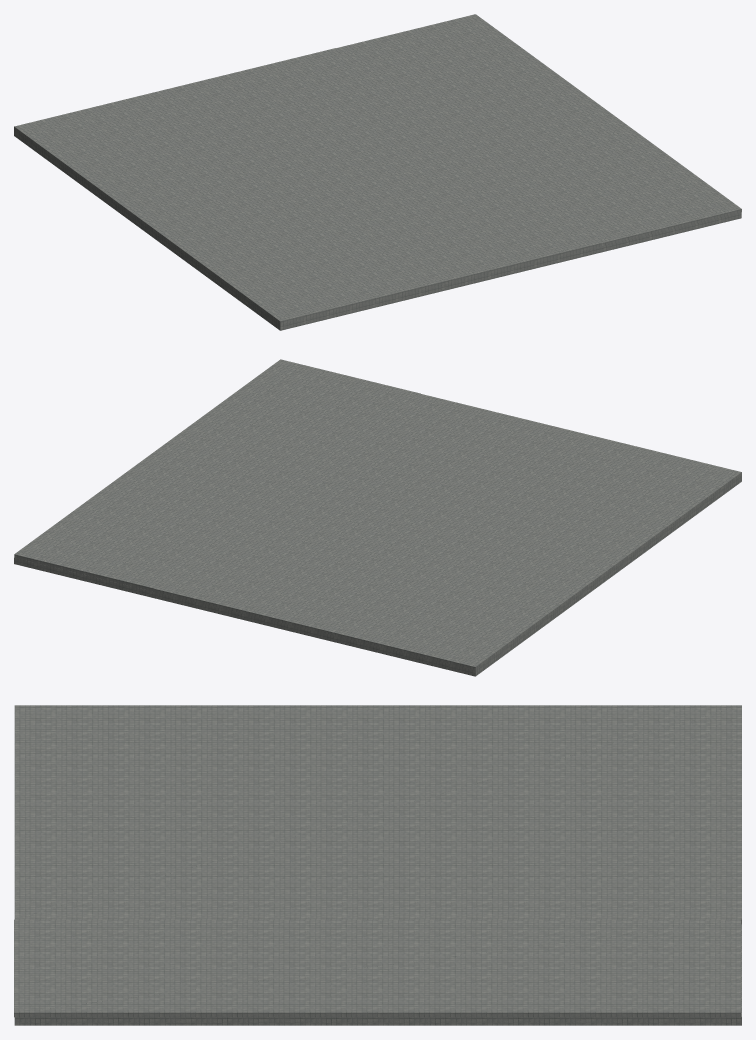
The model's file is 内地形.glb.
3 views of the same model, one above another, from view 1: azimuth 30°, elevation 25°; view 2: azimuth 150°, elevation 25°; view 3: azimuth 270°, elevation 25° (orthographic). The views are drawn at different scales.
Parts seen in each view (by area): view 1: 地面.005_floor; view 2: 地面.005_floor; view 3: 地面.005_floor.
Boxes of the visible parts, <box> form: 地面.005_floor: <box>14,14,741,330</box>; 地面.005_floor: <box>14,359,741,676</box>; 地面.005_floor: <box>14,705,741,1025</box>.
Size of the model in its own units: 32.64 by 0.6389 by 32.66.
Materials: 1 (1 with a texture image).
